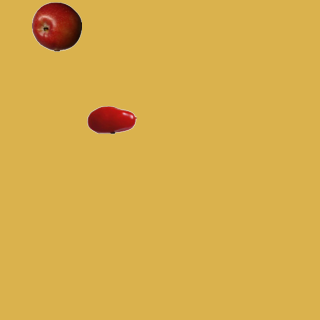Apple Braeburn: (31, 1, 81, 51)
Tomato 2: (86, 94, 136, 144)
